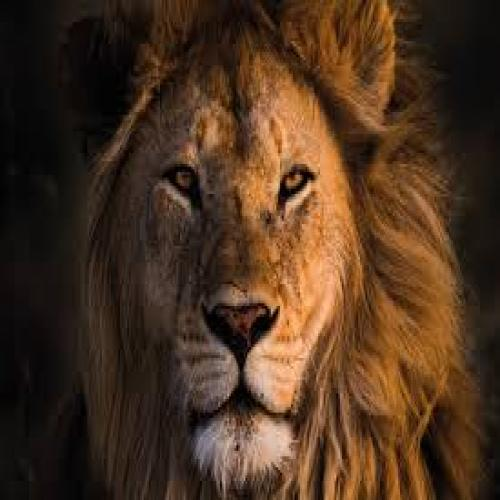lion-endangered: (62, 0, 467, 500)
